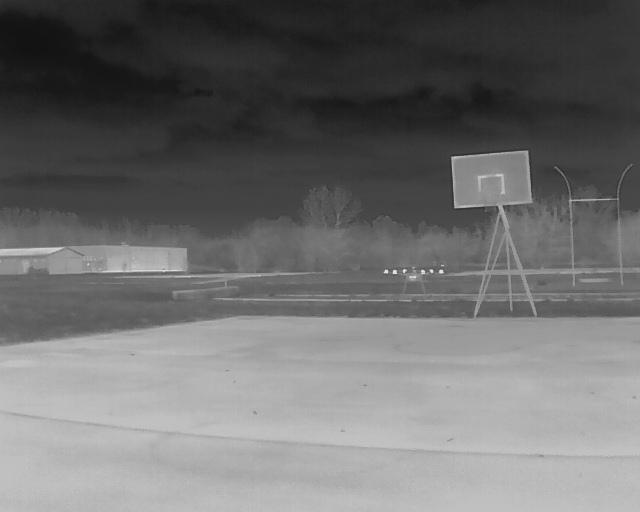drone: (375, 260, 447, 305)
